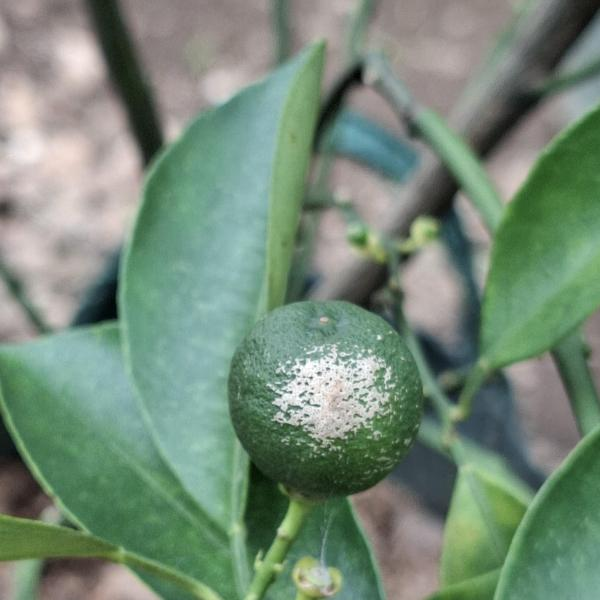Scab: (222, 299, 440, 504)
